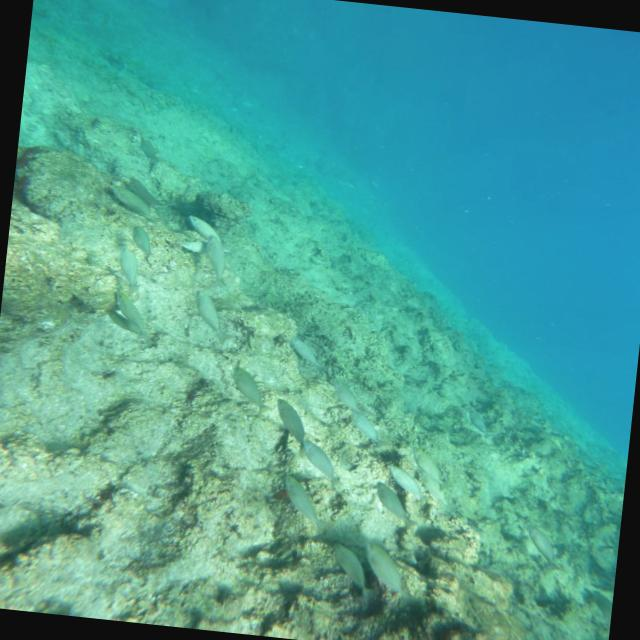Sokar Baligi: (270, 471, 330, 530), (178, 284, 235, 340)
